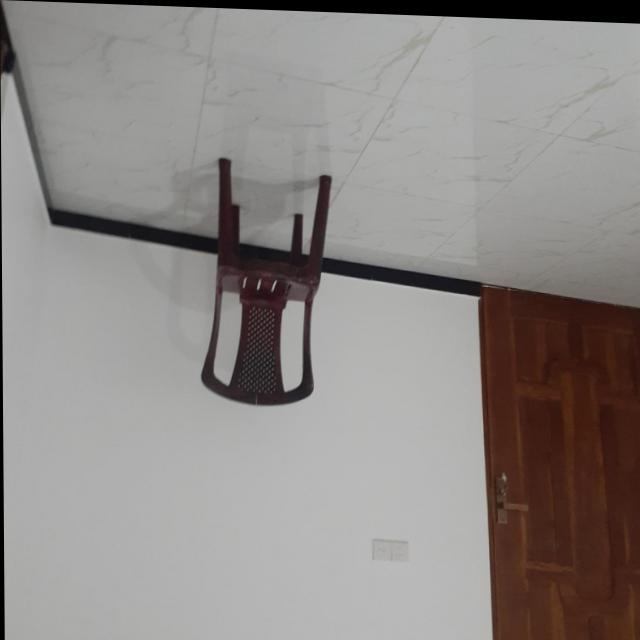Chair: (198, 154, 337, 408)
